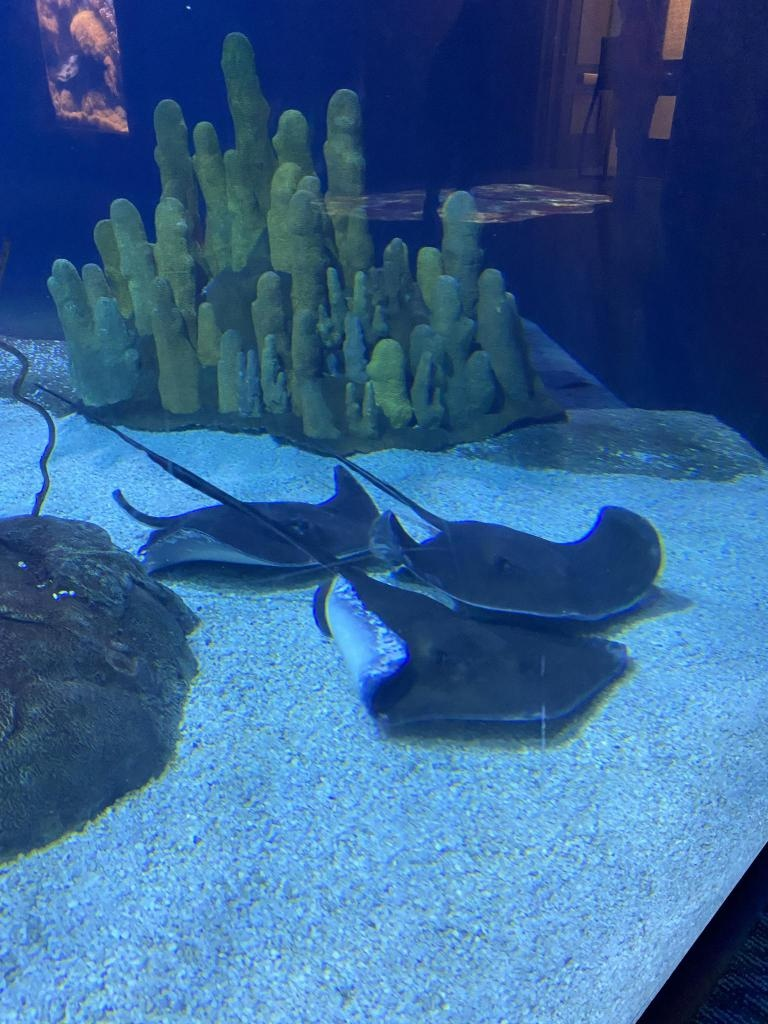stingray: (318, 571, 632, 725), (399, 504, 661, 620), (137, 464, 389, 574)
